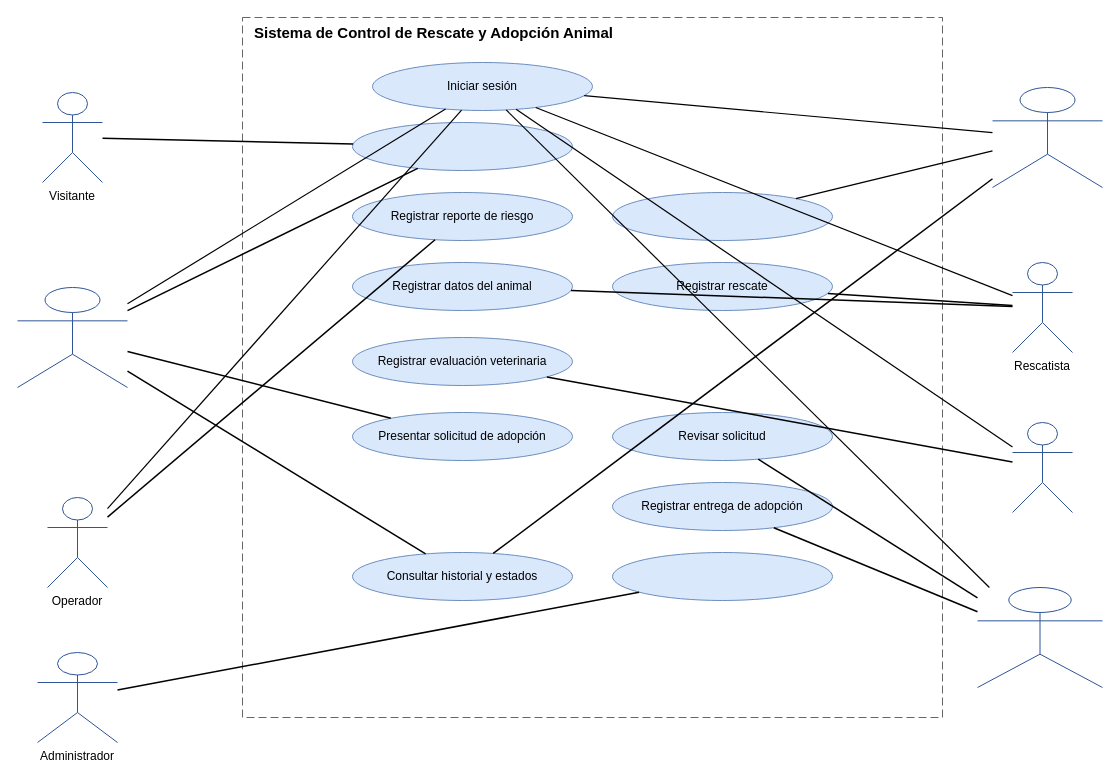
Image size: 1120x781. Some labels were removed from this diagram. Each missing label, with the centre of its shape:
Asignar caso de rescate: (722,216)
Consultar animales disponibles: (462,146)
Coordinador de rescate: (1047,137)
Encargado de adopciones: (1039,637)
Gestionar usuarios y roles: (722,576)
Solicitante / Adoptante: (72,337)
Veterinario: (1042,467)
